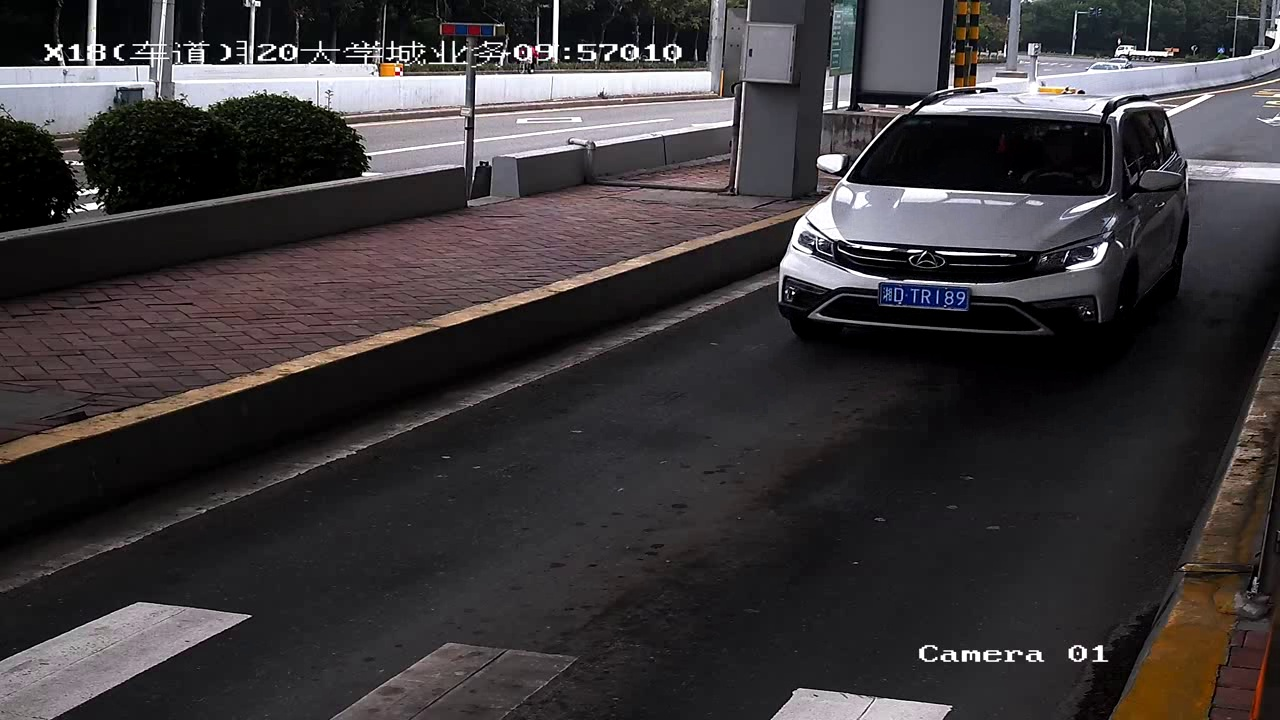bluePlate: (874, 280, 973, 313)
car: (767, 74, 1195, 367)
